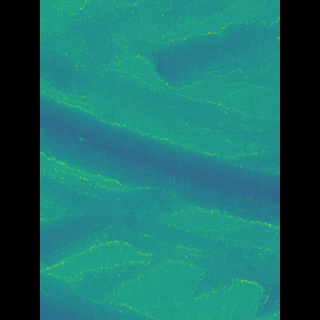Loch: (69, 88, 249, 237), (70, 169, 153, 319), (150, 0, 250, 94)
